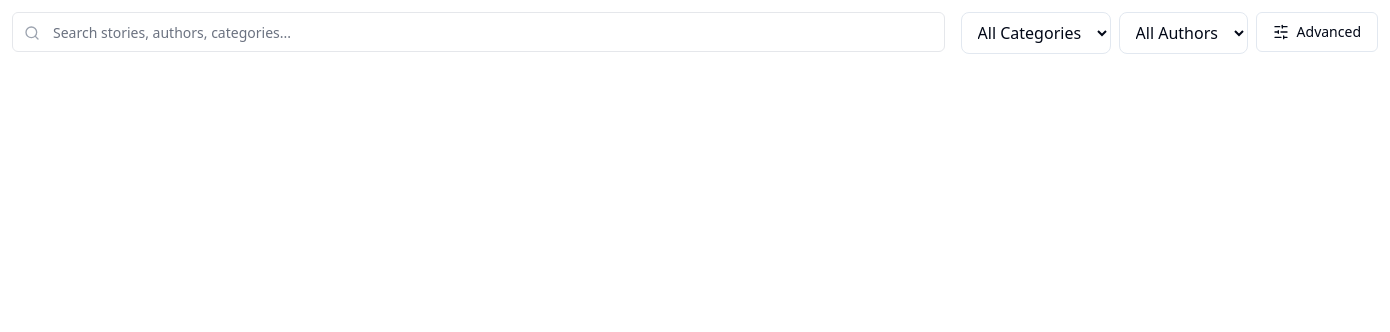
Test case: AdvancedSearch › should handle advanced filters when panel is opened
The image size is (1390, 332).
Click the button "Advanced": point(1317, 32) [1256,12,1378,52]
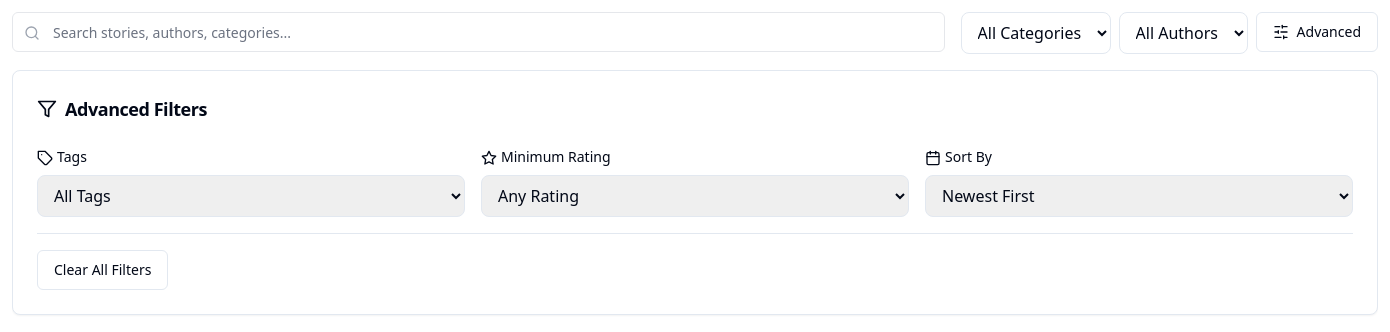
Now the heading "Advanced Filters" is shown, box [37,97,207,121]
Now the text "Tags" is shown 2 times
Now the text "Minimum Rating" is shown, box [481,147,610,166]
